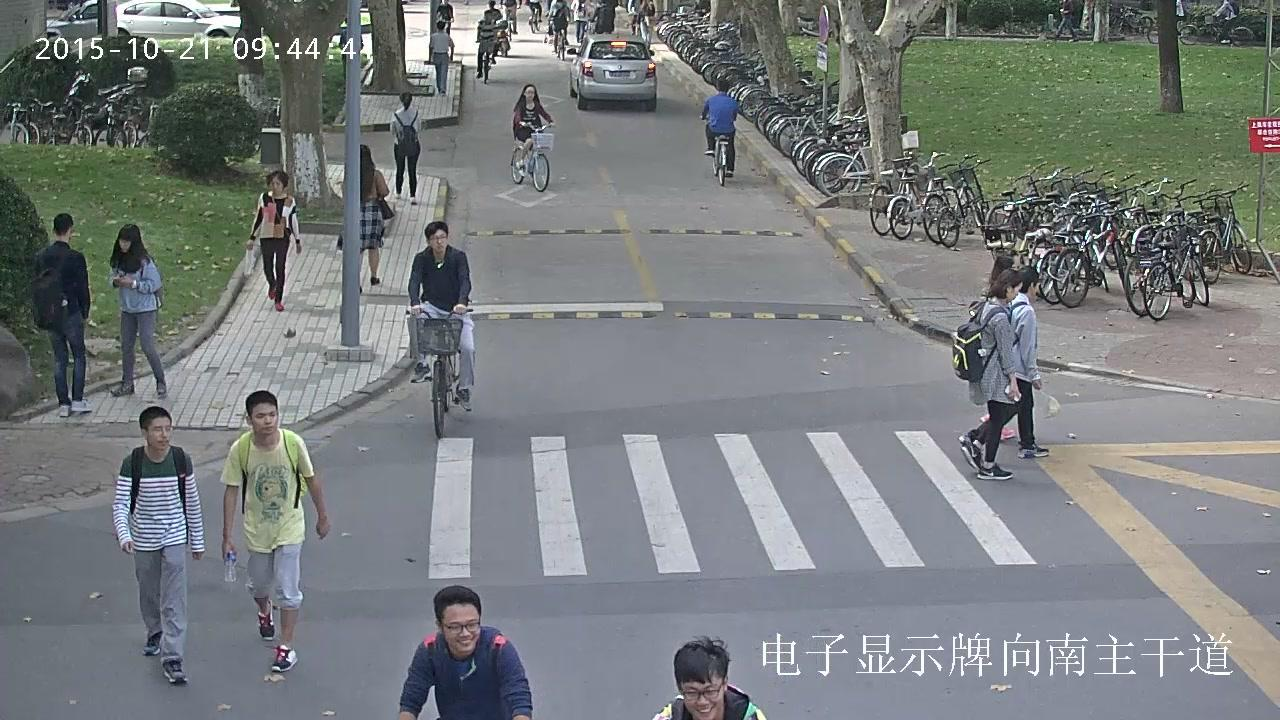face: (682, 672, 723, 719), (443, 603, 480, 651), (252, 401, 277, 434), (148, 416, 171, 449), (430, 229, 447, 251), (1010, 282, 1022, 300), (119, 239, 131, 252), (271, 177, 281, 191), (525, 86, 534, 99), (1035, 280, 1039, 293), (485, 13, 490, 19), (442, 0, 447, 3)
